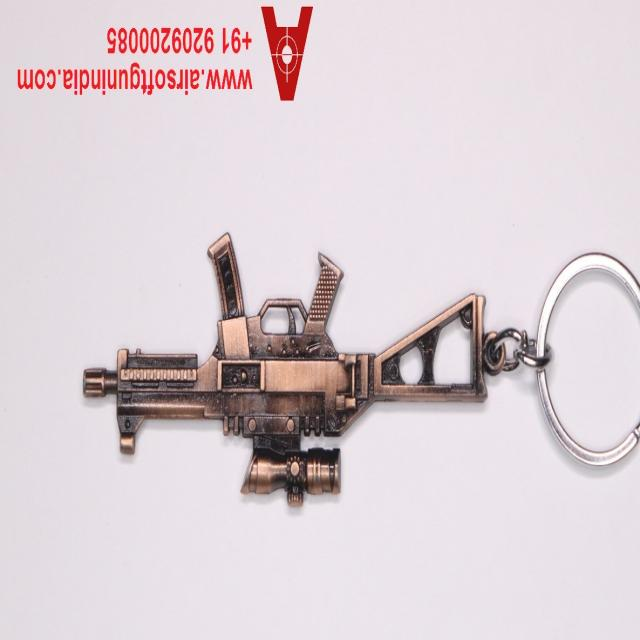Gun: (66, 184, 516, 514)
